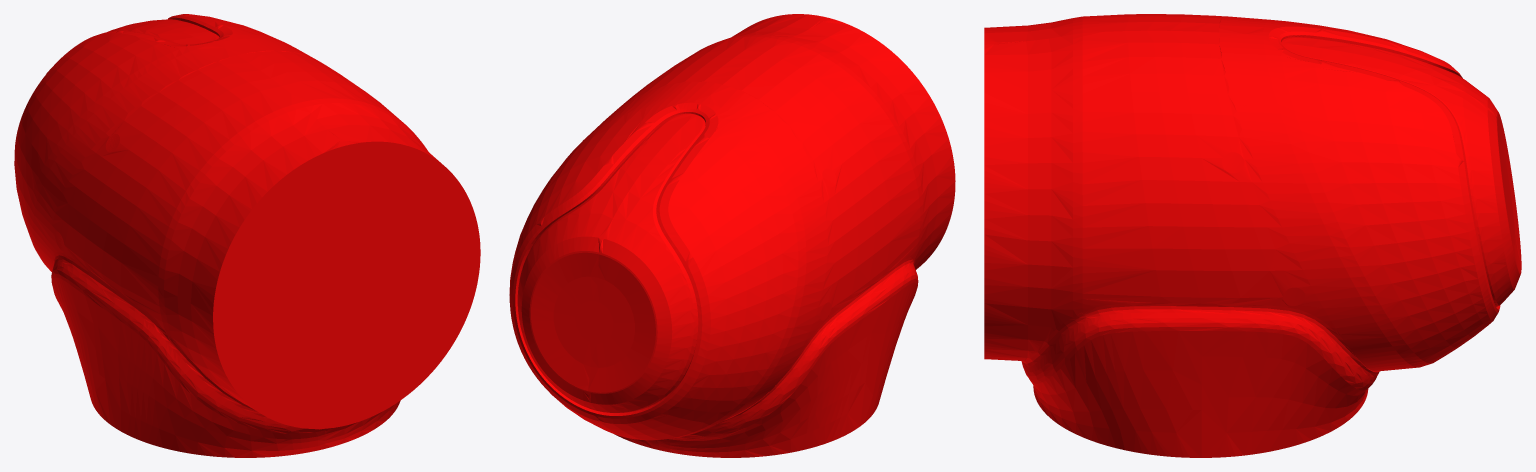
The picture shows the model from 3 angles, left to right: view 1: azimuth 30°, elevation 25°; view 2: azimuth 150°, elevation 25°; view 3: azimuth 270°, elevation 25°; orthographic projection. The views are drawn at different scales.
Parts seen in each view (by area): view 1: MF1013_4_1; view 2: MF1013_4_1; view 3: MF1013_4_1.
Boxes of the visible parts, <box> form: MF1013_4_1: <box>14,14,480,457</box>; MF1013_4_1: <box>509,14,955,457</box>; MF1013_4_1: <box>984,14,1521,457</box>.
Bounding box in the file's own units: 114 × 164 × 120.
